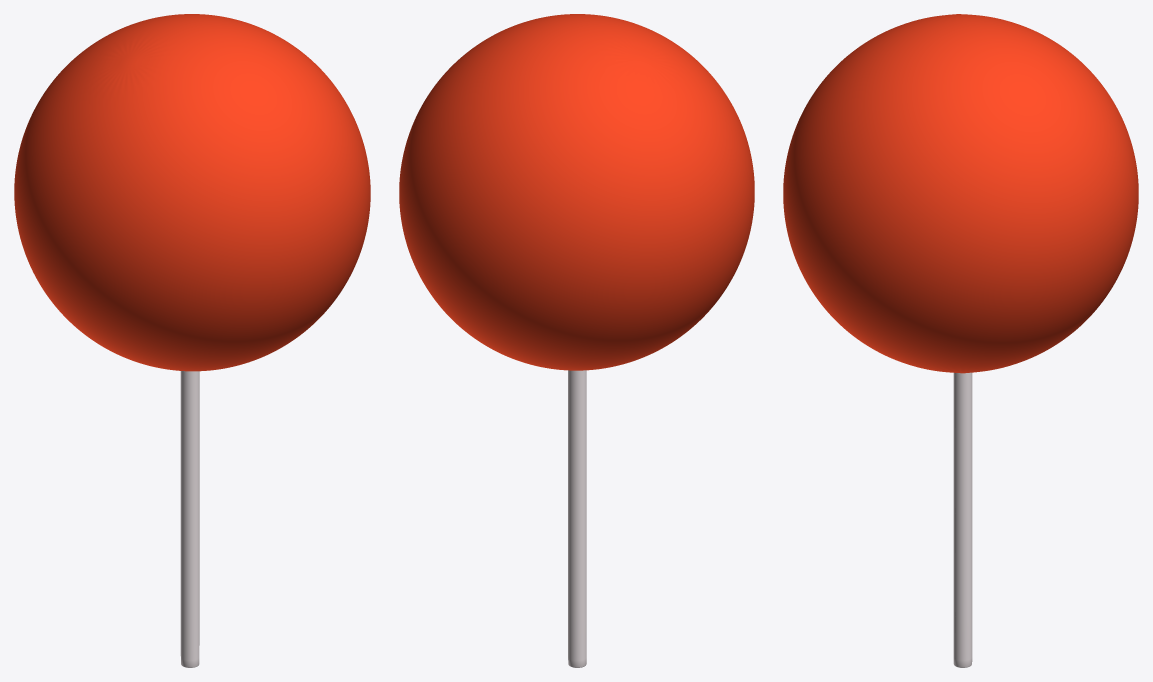
Rendered from Candy_Bar.fbx.
The picture shows the model from 3 angles, left to right: view 1: azimuth 30°, elevation 25°; view 2: azimuth 150°, elevation 25°; view 3: azimuth 270°, elevation 25°; orthographic projection.
Visible parts, largest first — view 1: Candy_Mat, Stick; view 2: Candy_Mat, Stick; view 3: Candy_Mat, Stick.
Part boxes in pixels (x1,y1,x2,y2): Candy_Mat: [14, 14, 370, 371]; Stick: [180, 371, 199, 667]; Candy_Mat: [399, 14, 754, 370]; Stick: [568, 370, 586, 667]; Candy_Mat: [783, 14, 1138, 373]; Stick: [953, 372, 972, 667].
Bounding box in the file's own units: 6019 × 11818 × 6012.
